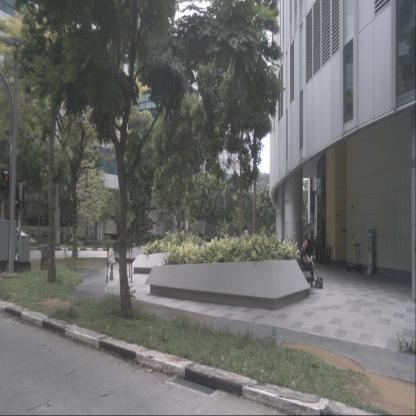human-pedestrian-adult: (299, 237, 317, 288)
